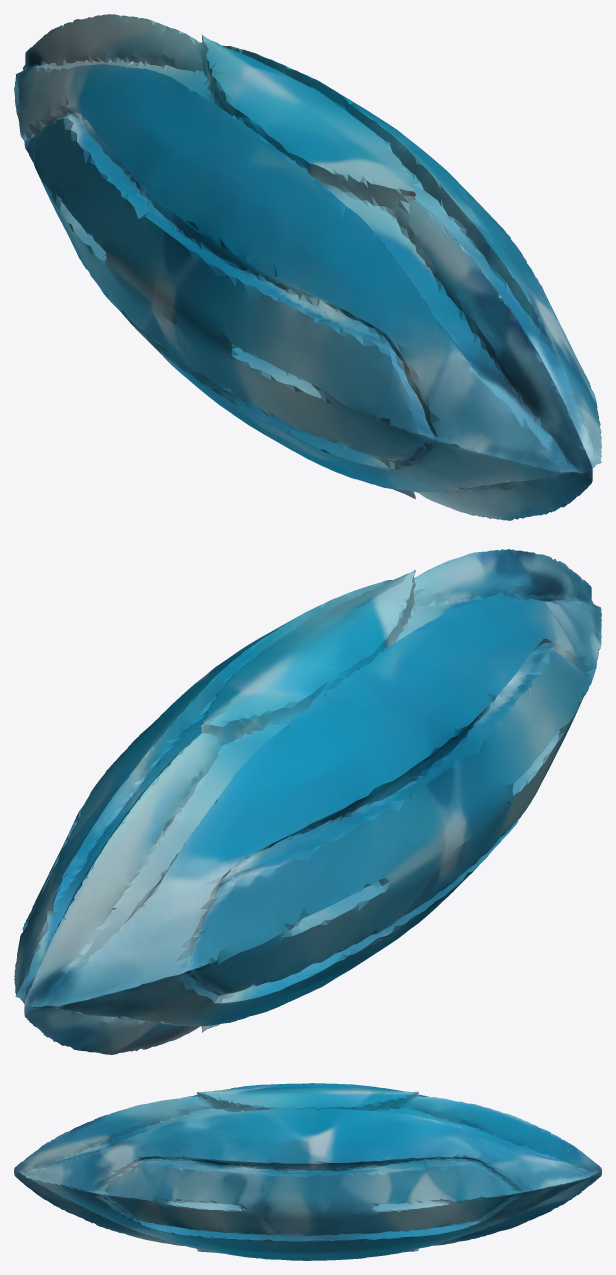
The model's file is ice_crystal.glb.
3 renders of one model, top to bottom at view 1: azimuth 30°, elevation 25°; view 2: azimuth 150°, elevation 25°; view 3: azimuth 270°, elevation 25°, orthographic. The views are drawn at different scales.
Parts seen in each view (by area): view 1: ice_crystal; view 2: ice_crystal; view 3: ice_crystal.
Part boxes in pixels (x1=…): ice_crystal: x1=14, y1=14, x2=601, y2=520; ice_crystal: x1=14, y1=549, x2=601, y2=1054; ice_crystal: x1=14, y1=1083, x2=601, y2=1260.
Size of the model in its own units: 0.5631 by 0.5686 by 1.89.
1 material, 1 textured.
